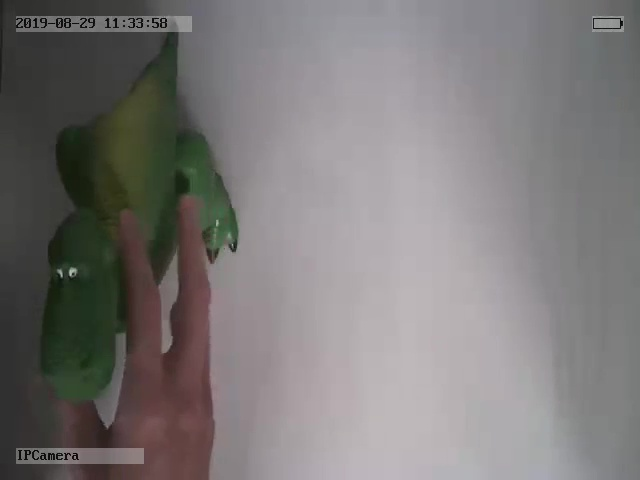rex: (40, 34, 237, 401)
